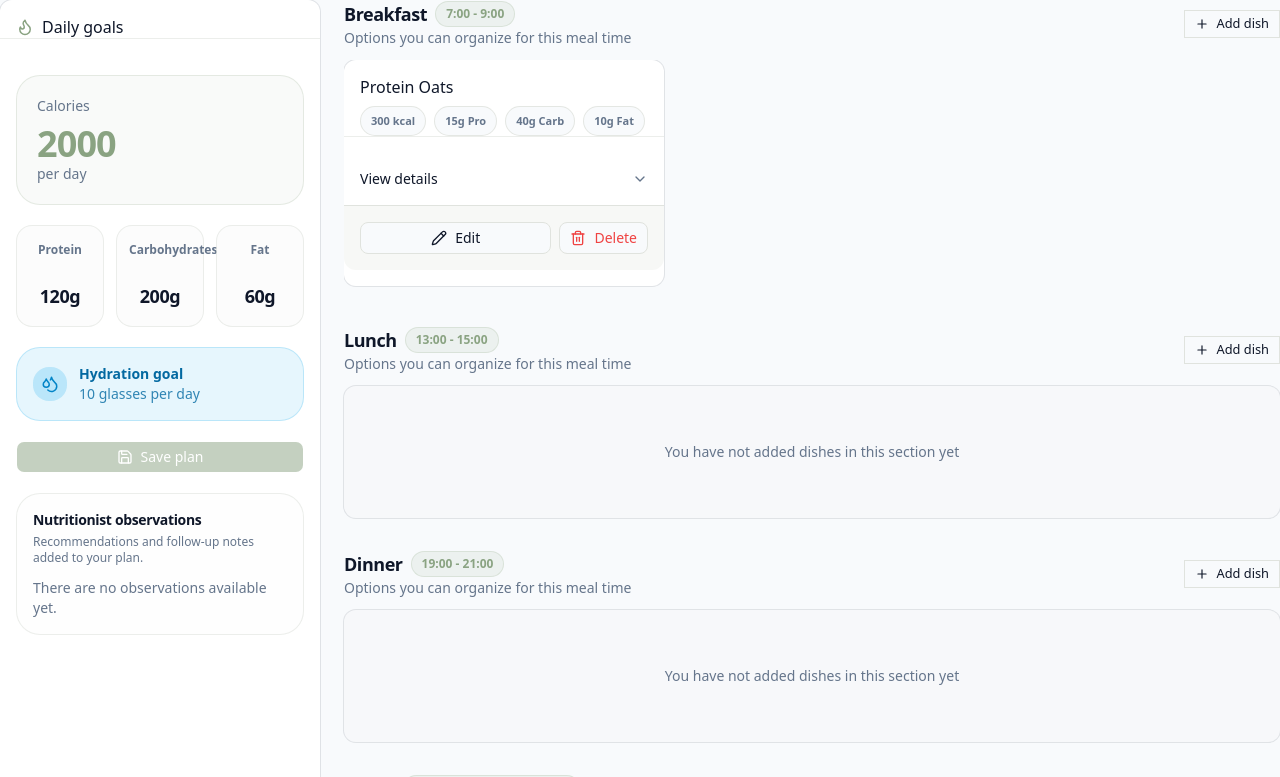
it: NutritionPlanWorkspace › shows a service-unavailable message when the ingredient search fails
Click the button "Add dish" in the row of "7:00 - 9:00": [1232, 24] box [1184,10,1279,38]
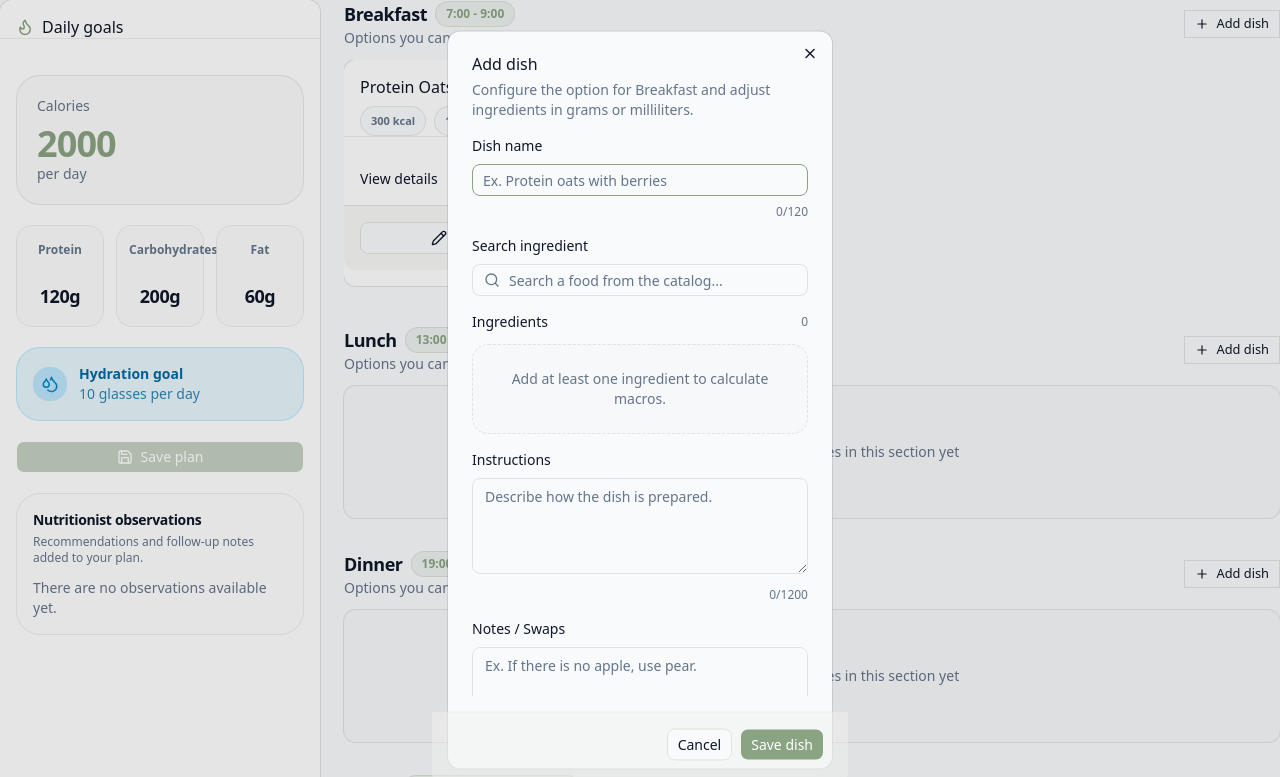
In the field with placeholder "Search a food from the catalog...": [640, 280] box [472,264,808,296], type "Chicken"
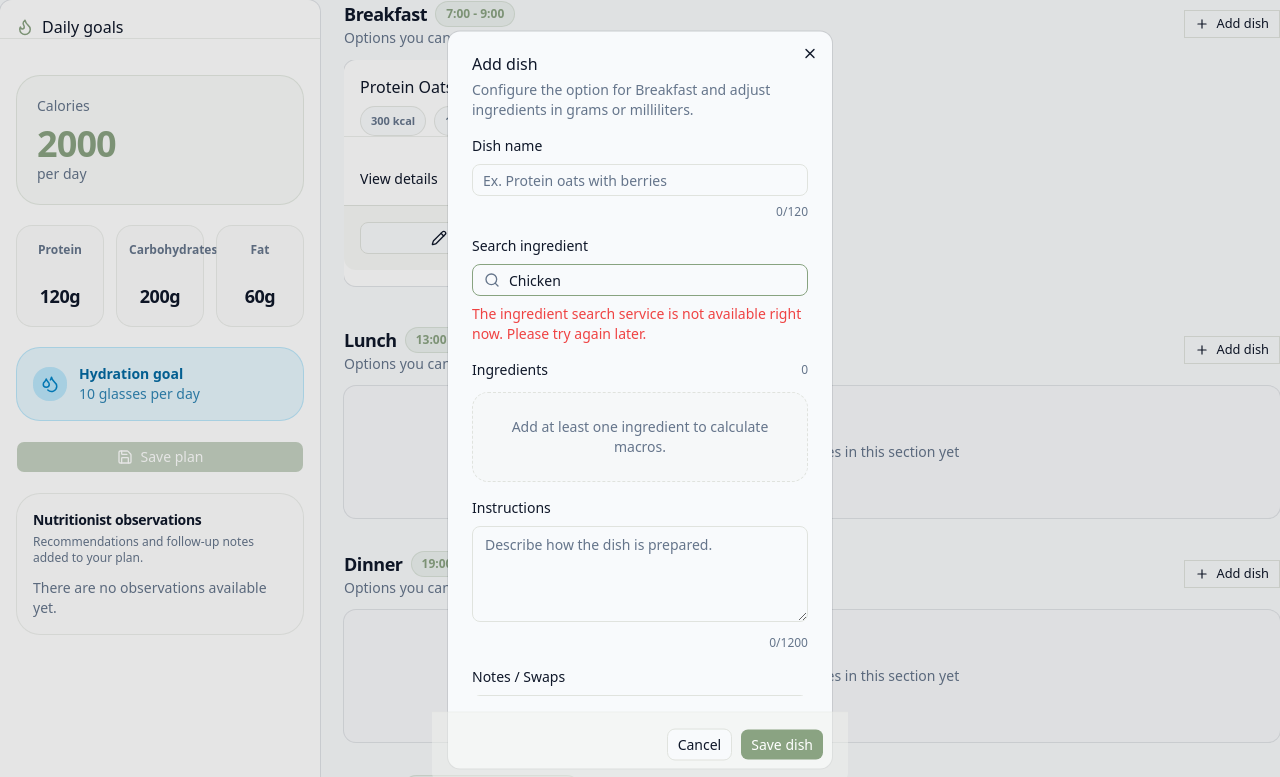
Now the text "The ingredient search service is not available right now. Please try again later." is shown, box [472,304,801,342]
